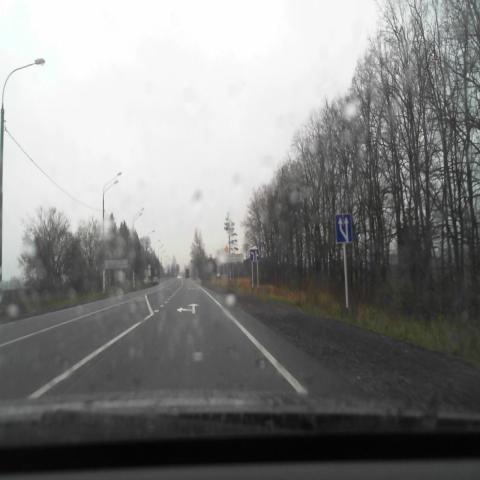5_15_3: (335, 213, 352, 243)
